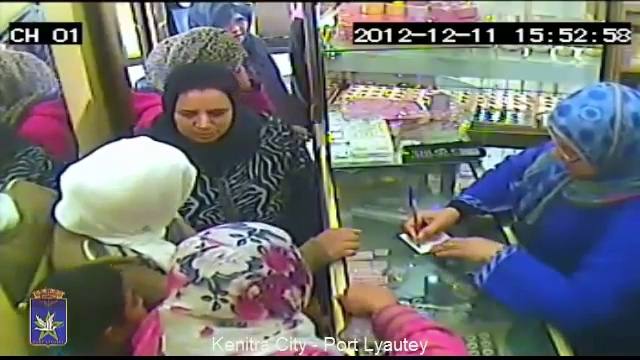face: (174, 92, 231, 142), (553, 126, 602, 183), (100, 277, 149, 325), (219, 10, 248, 43)
